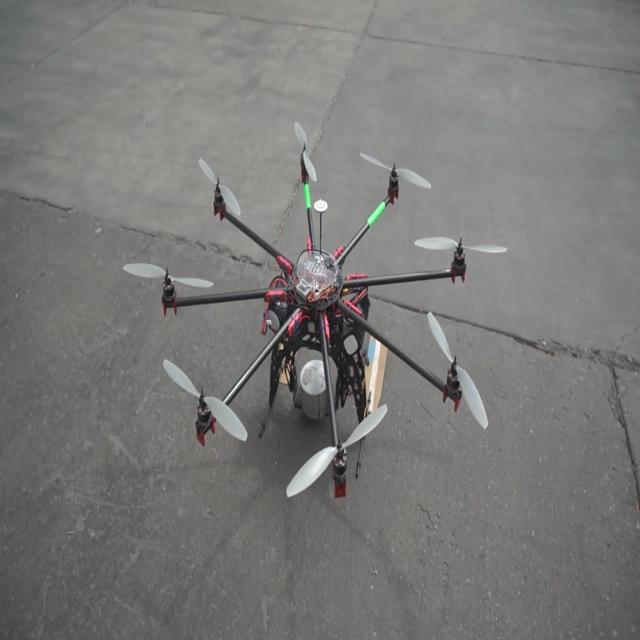drone: (118, 111, 506, 533)
